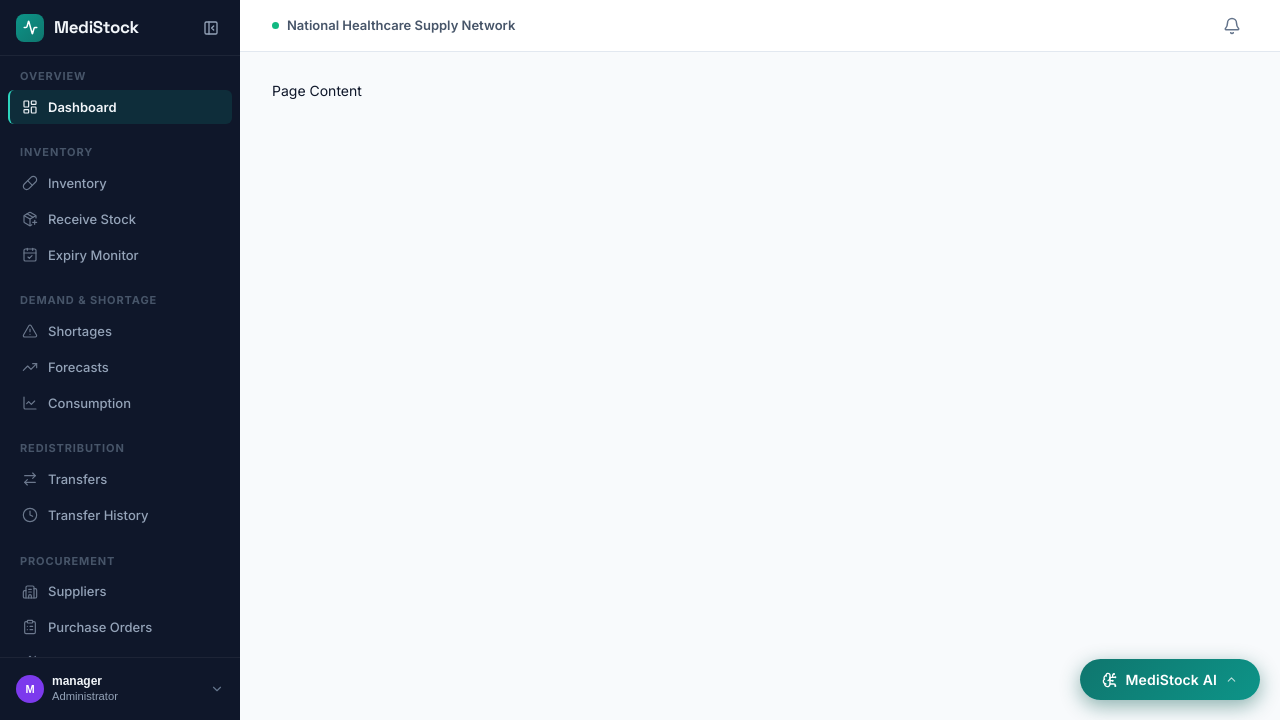
Test: DashboardLayout Global Navigation Sidebar › opens profile dropdown on click and closes on outside click
Expected: the text "Profile" is not shown
Expected: the text "Sign out" is not shown
# Click to open dropdown
Click the button named "User menu" at (120, 689), box [8,670,232,708]
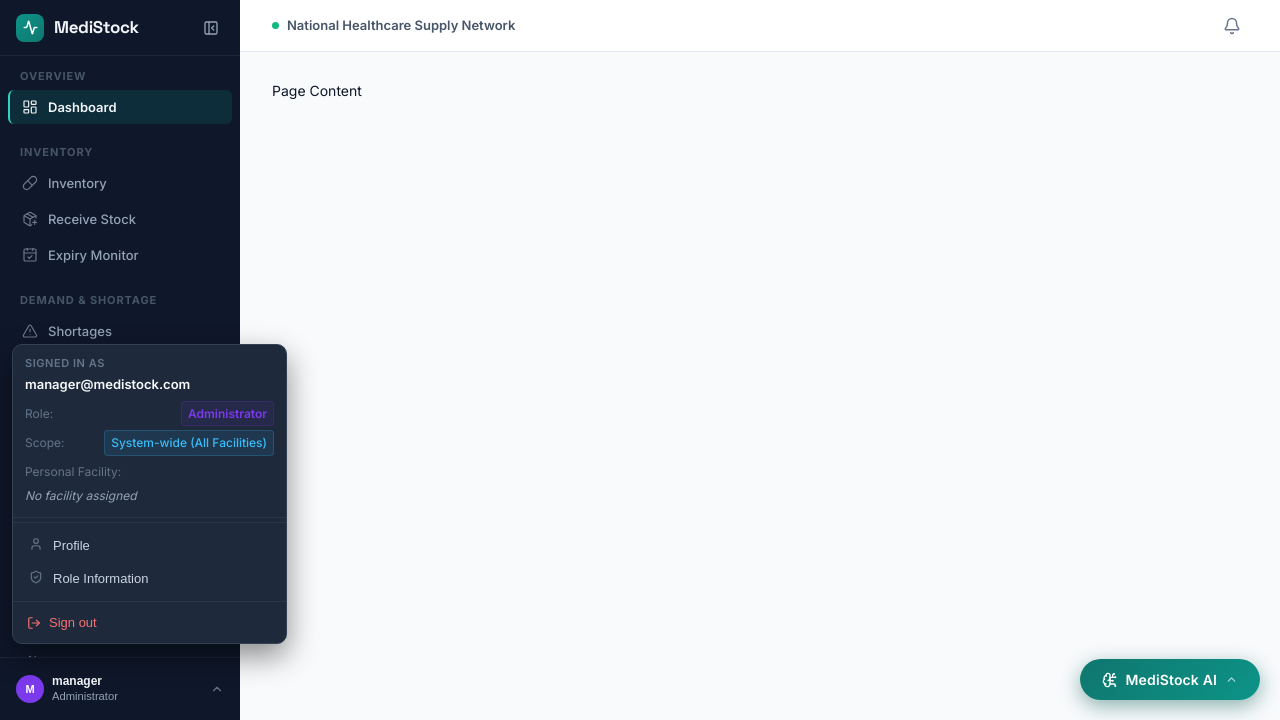
Result: the menu item "Profile" is shown at [19,529,280,562]
Result: the menu item "Role Information" is shown at [19,562,280,595]
Result: the menu item "Sign out" is shown at [19,608,280,637]
# Click outside to close
Press the mouse on the element that starts with "MediStock" at (640, 360), box [0,0,1279,719]
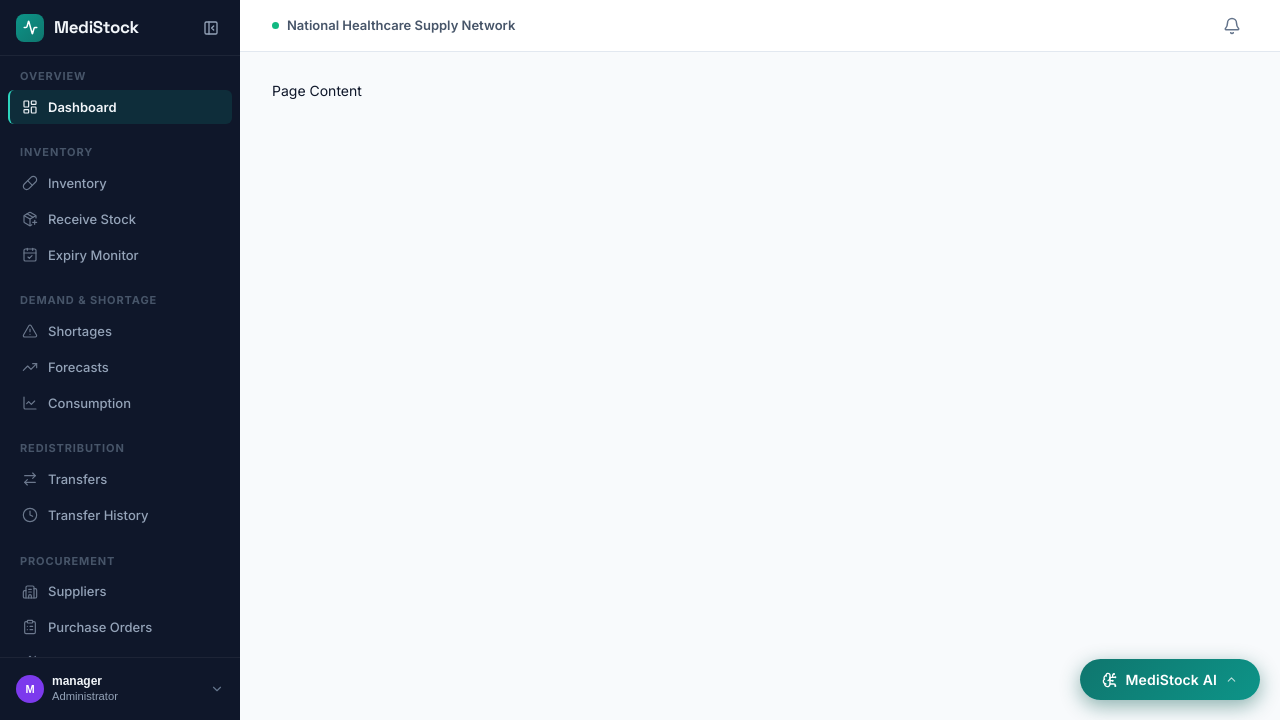
Result: the menu item "Profile" is gone
